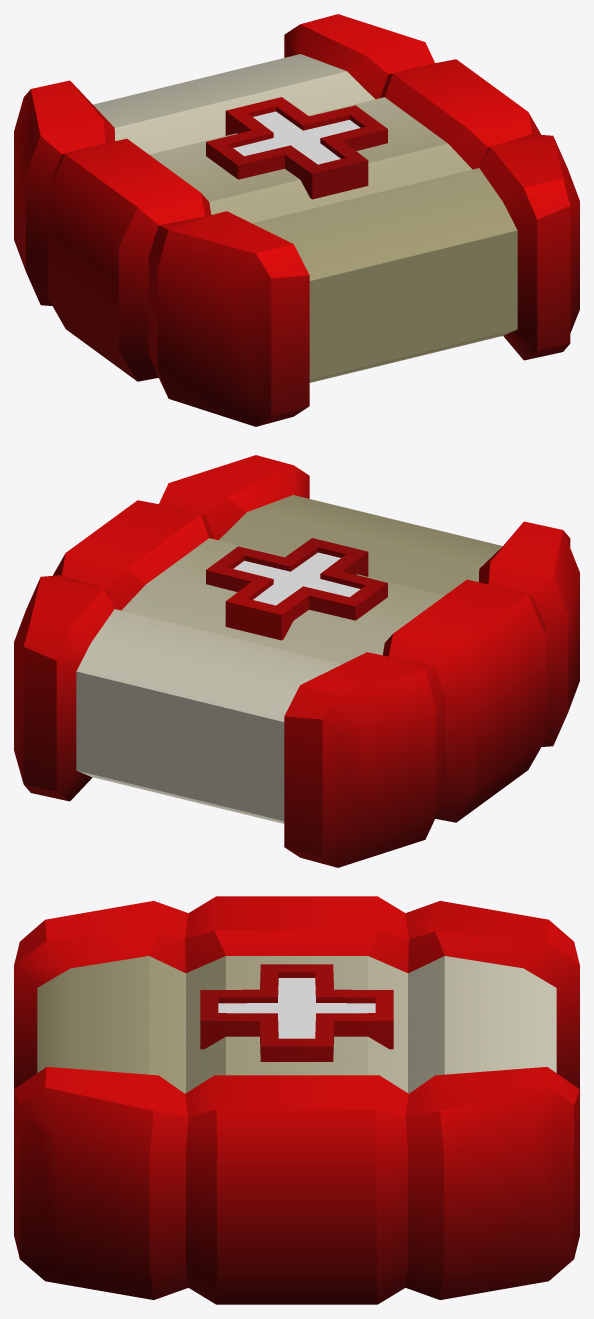
The model's file is first aid.fbx.
3 views of the same model, one above another, from view 1: azimuth 30°, elevation 25°; view 2: azimuth 150°, elevation 25°; view 3: azimuth 270°, elevation 25° (orthographic). The views are drawn at different scales.
Visible parts, largest first — view 1: Cube; view 2: Cube; view 3: Cube.
Boxes of the visible parts, <box> form: Cube: <box>14,14,579,426</box>; Cube: <box>14,455,579,867</box>; Cube: <box>14,896,579,1304</box>.
Bounding box in the file's own units: 271 × 106 × 278.
